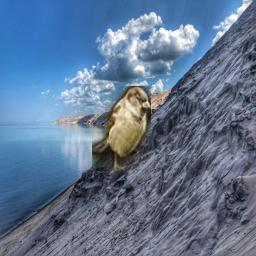Sparrow: (92, 86, 151, 171)
